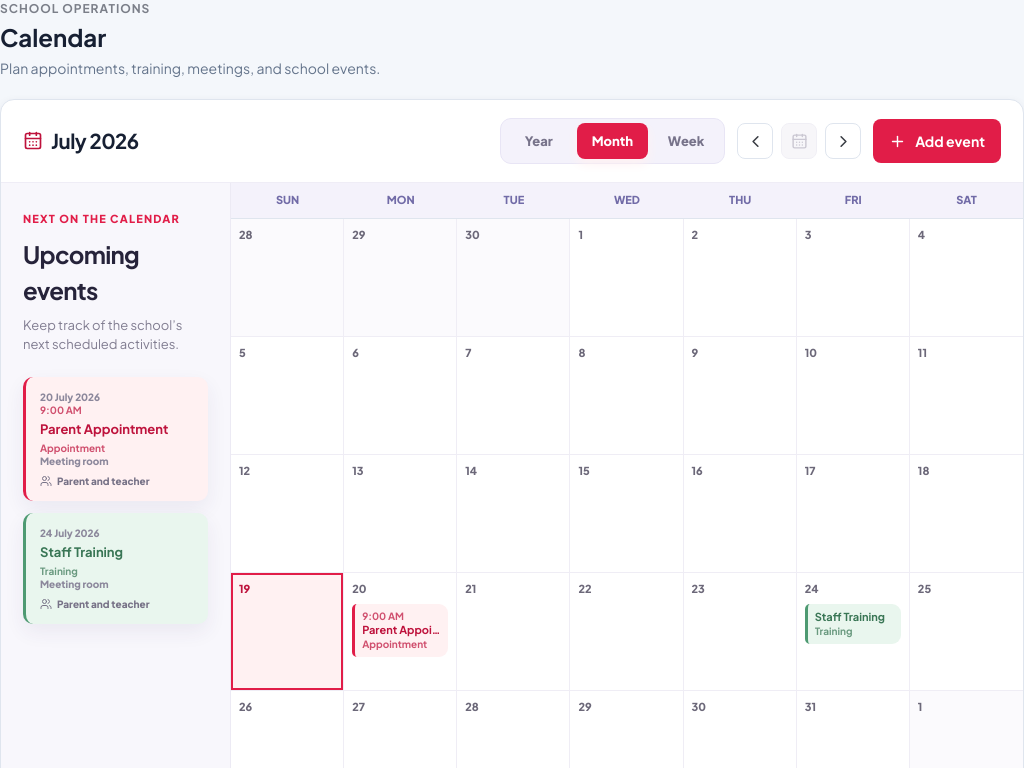
Scenario: CalendarPage › preserves edited values and shows API validation errors after a failed update
The image size is (1024, 768).
Click the button "9:00 AM Parent Appointment Appointment": (400, 631) [352,604,448,657]
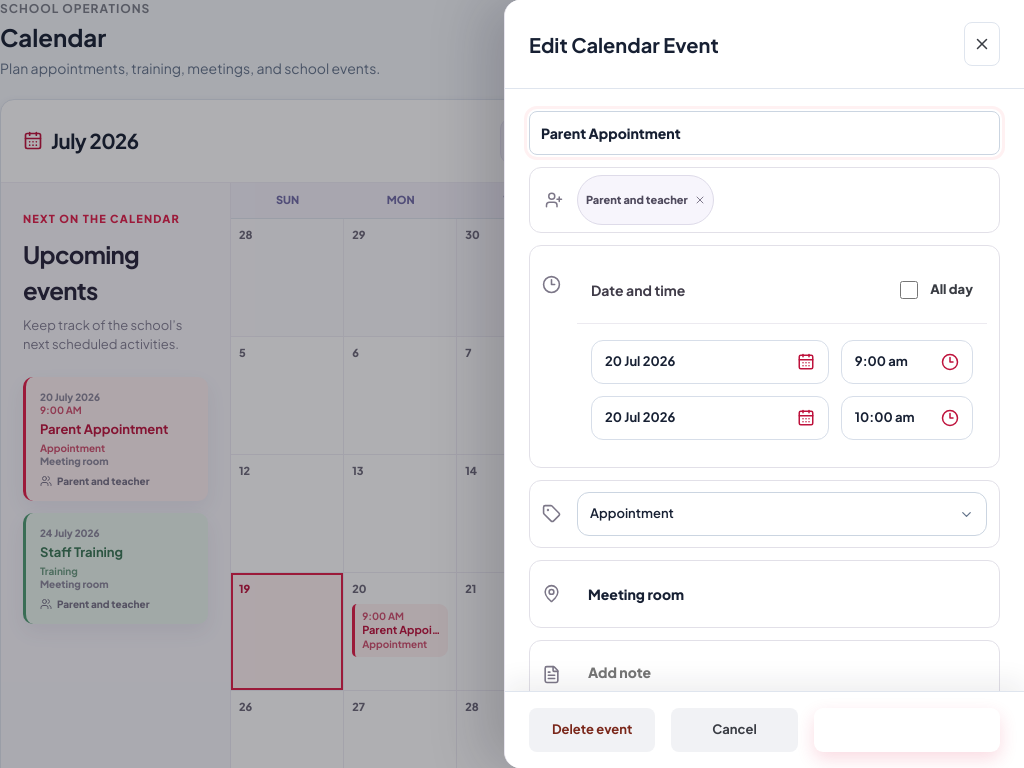
Replace the text in the field named "title" with "Updated Parent Appointment": (764, 133) [529,111,1000,155]
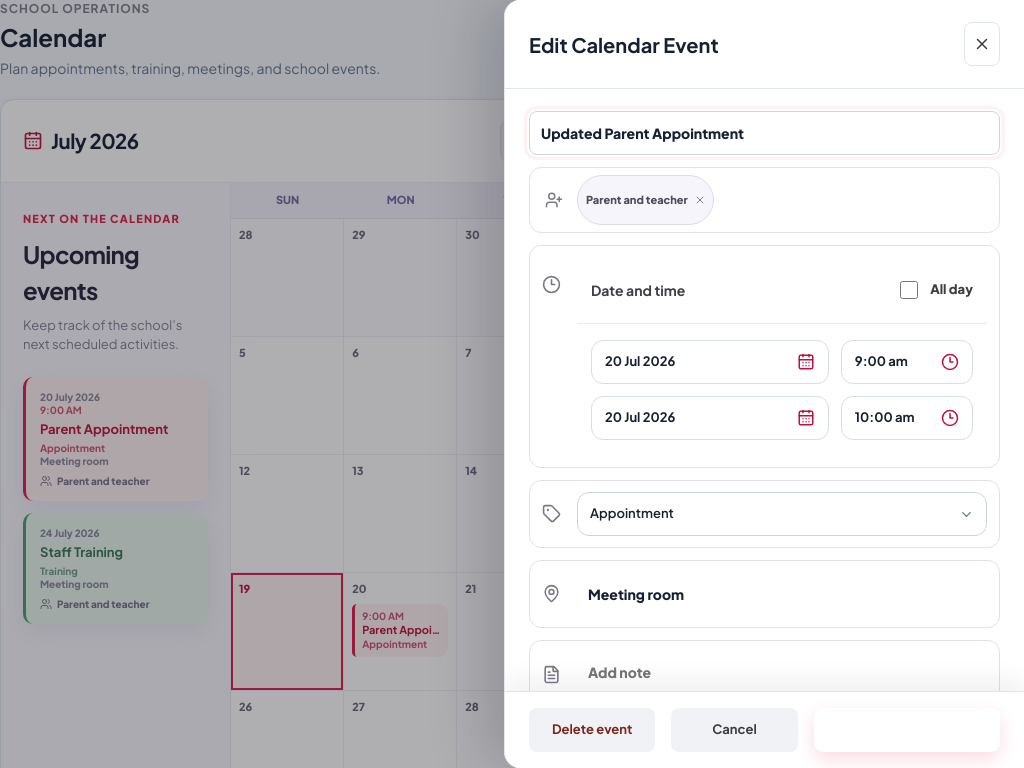
Click the button "Save changes": (907, 730) [814,708,1000,752]
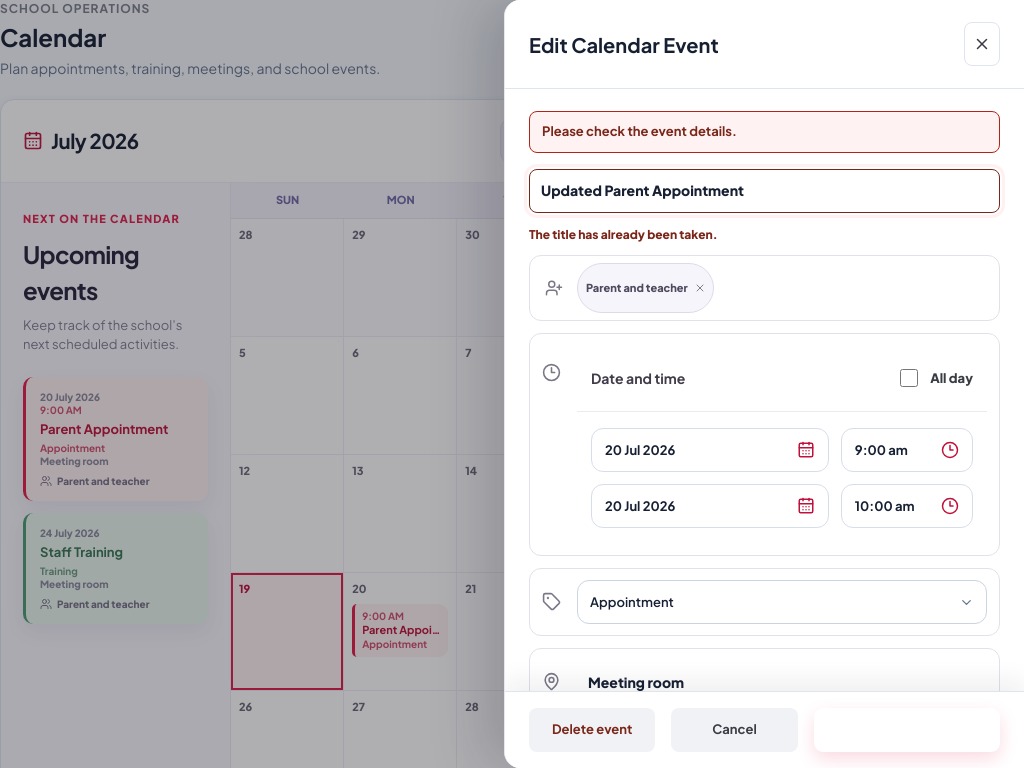
Check: the dialog "Edit Calendar Event" is shown, box [504,0,1023,767]
Check: the message reads "Please check the event details.", box [542,123,737,139]
Check: the text "The title has already been taken." is shown, box [529,226,718,242]
